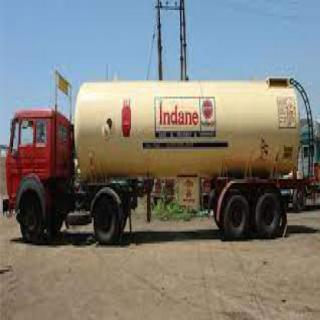Normal_vehicle: (6, 73, 307, 250)
